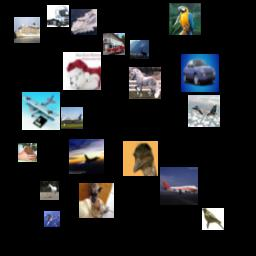airplane: (160, 167, 198, 205), (22, 92, 60, 130), (69, 139, 104, 174), (188, 95, 220, 127), (61, 107, 83, 129), (44, 211, 60, 227)
automobile: (181, 54, 219, 92)
bird: (123, 141, 158, 176), (169, 3, 201, 35), (202, 208, 224, 230)
cat: (63, 52, 101, 90)
deer: (130, 40, 149, 59)
dog: (79, 183, 114, 218), (18, 143, 37, 162)
ship: (71, 9, 97, 35), (14, 17, 40, 43)
truck: (103, 33, 125, 55), (47, 5, 69, 27)
